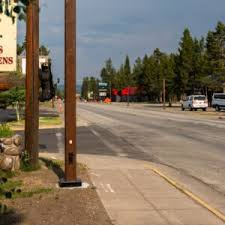light_pole: (61, 2, 80, 184), (21, 4, 42, 168)
